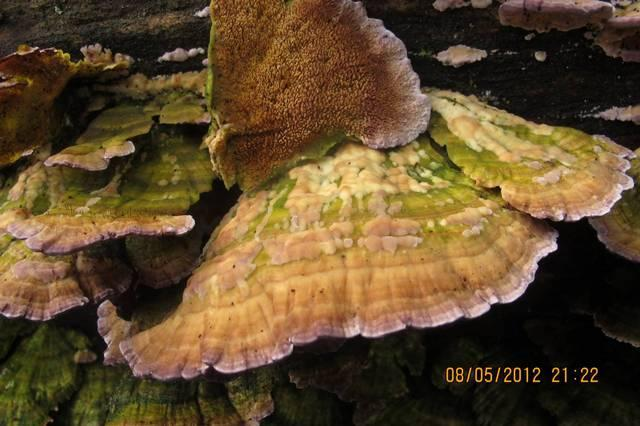poisonous_mushroom: (109, 141, 560, 381), (201, 0, 432, 192)
